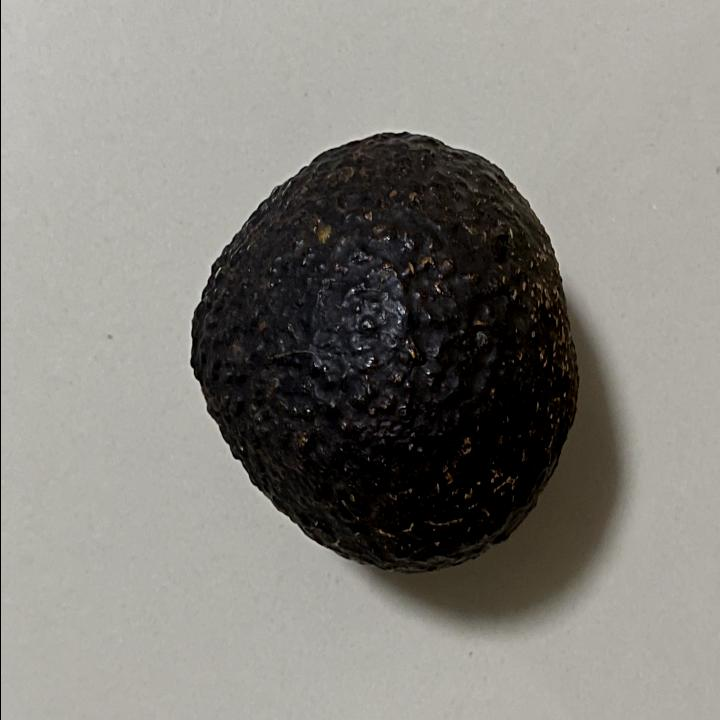Level2: (180, 129, 582, 586)
